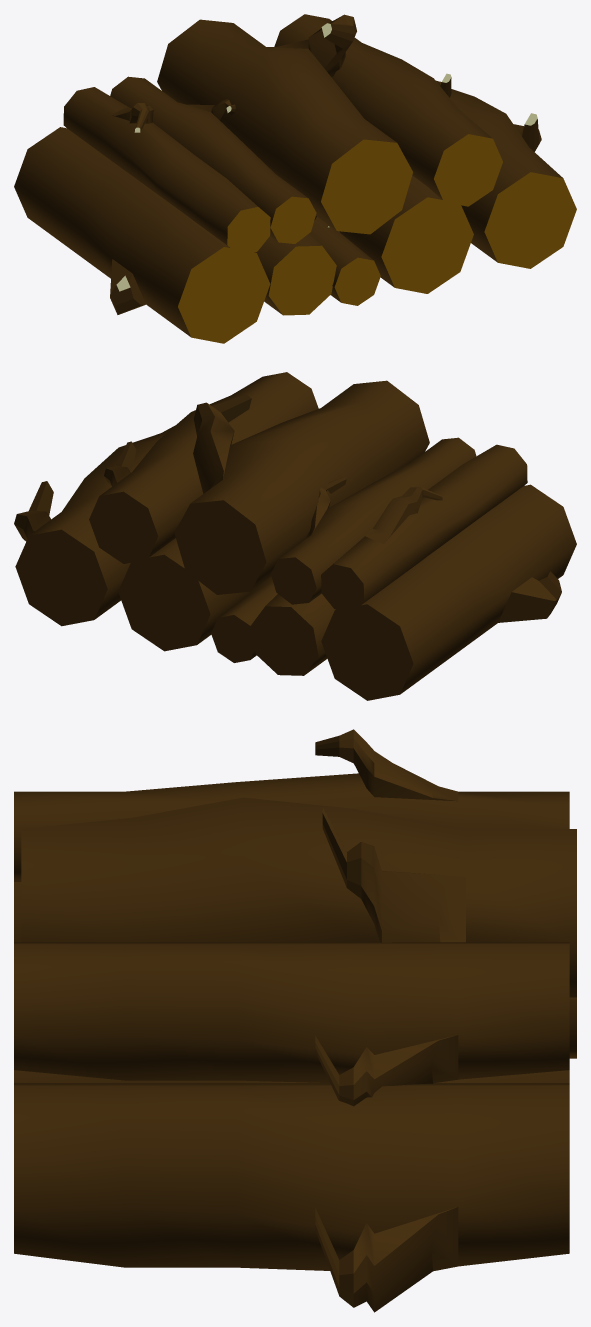
The model's file is LogPile.fbx.
3 renders of one model, top to bottom at view 1: azimuth 30°, elevation 25°; view 2: azimuth 150°, elevation 25°; view 3: azimuth 270°, elevation 25°, orthographic. The views are drawn at different scales.
Parts seen in each view (by area): view 1: pCylinder75; view 2: pCylinder75; view 3: pCylinder75.
Part boxes in pixels (bbox=[...]): pCylinder75: bbox=[14, 14, 576, 343]; pCylinder75: bbox=[14, 372, 576, 700]; pCylinder75: bbox=[14, 729, 576, 1312].
Size of the model in its own units: 4.24 by 1.81 by 2.48.
